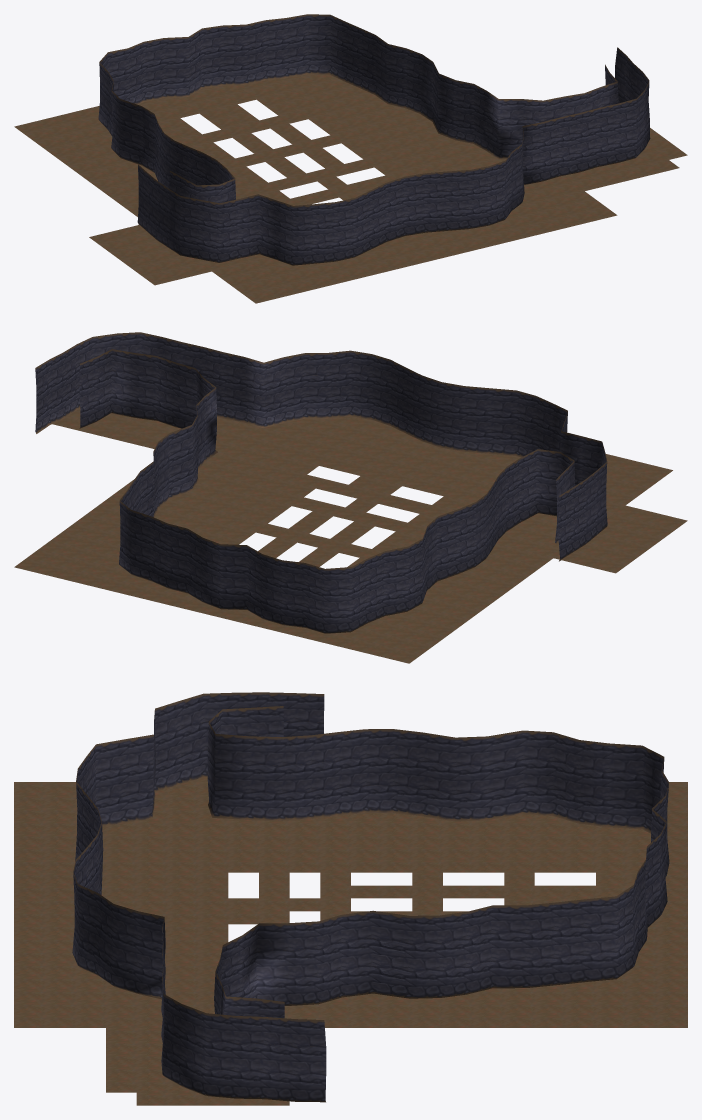
Rendered from map.fbx.
The picture shows the model from 3 angles, top to bottom: view 1: azimuth 30°, elevation 25°; view 2: azimuth 150°, elevation 25°; view 3: azimuth 270°, elevation 25°; orthographic projection. The views are drawn at different scales.
Visible parts, largest first — view 1: map; view 2: map; view 3: map.
Boxes of the visible parts, x1,y1,x2,y2 form: map: (14, 14, 687, 303); map: (14, 332, 687, 663); map: (14, 692, 687, 1105).
Bounding box in the file's own units: 8400 × 915 × 6600.
